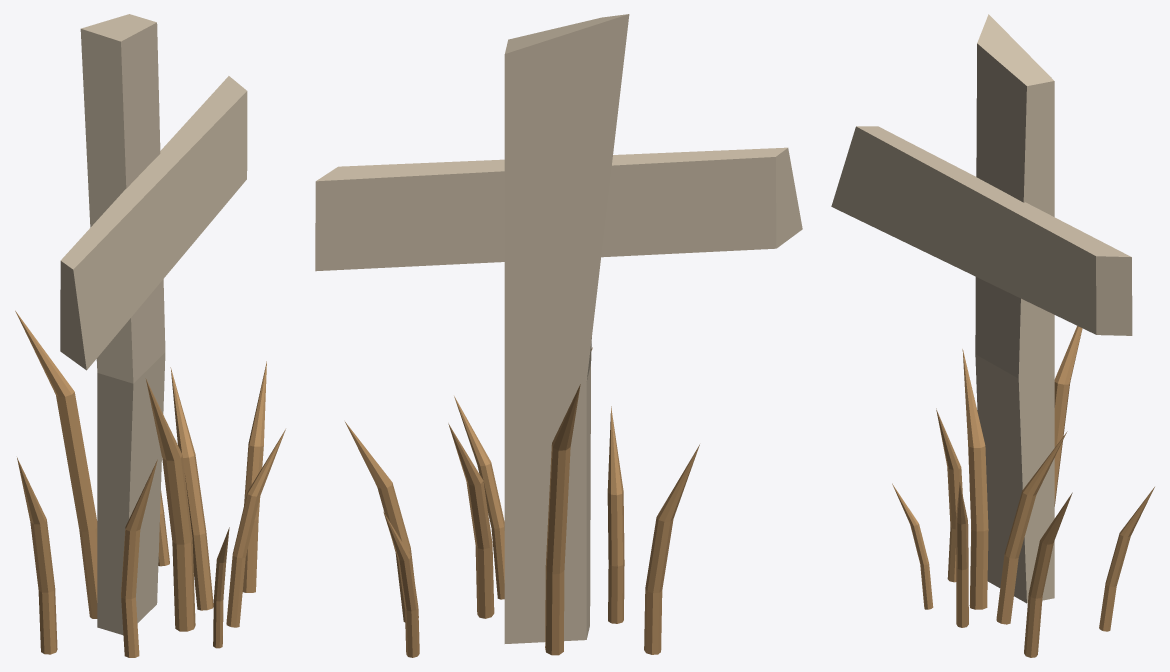
Rendered from Grave_2.fbx.
3 renders of one model, left to right at view 1: azimuth 30°, elevation 25°; view 2: azimuth 150°, elevation 25°; view 3: azimuth 270°, elevation 25°, orthographic. The views are drawn at different scales.
Visible parts, largest first — view 1: Grave_2; view 2: Grave_2; view 3: Grave_2.
Boxes of the visible parts, x1,y1,x2,y2 form: Grave_2: [15, 14, 285, 657]; Grave_2: [315, 14, 802, 657]; Grave_2: [831, 14, 1154, 657].
Size of the model in its own units: 115 by 115 by 218.
